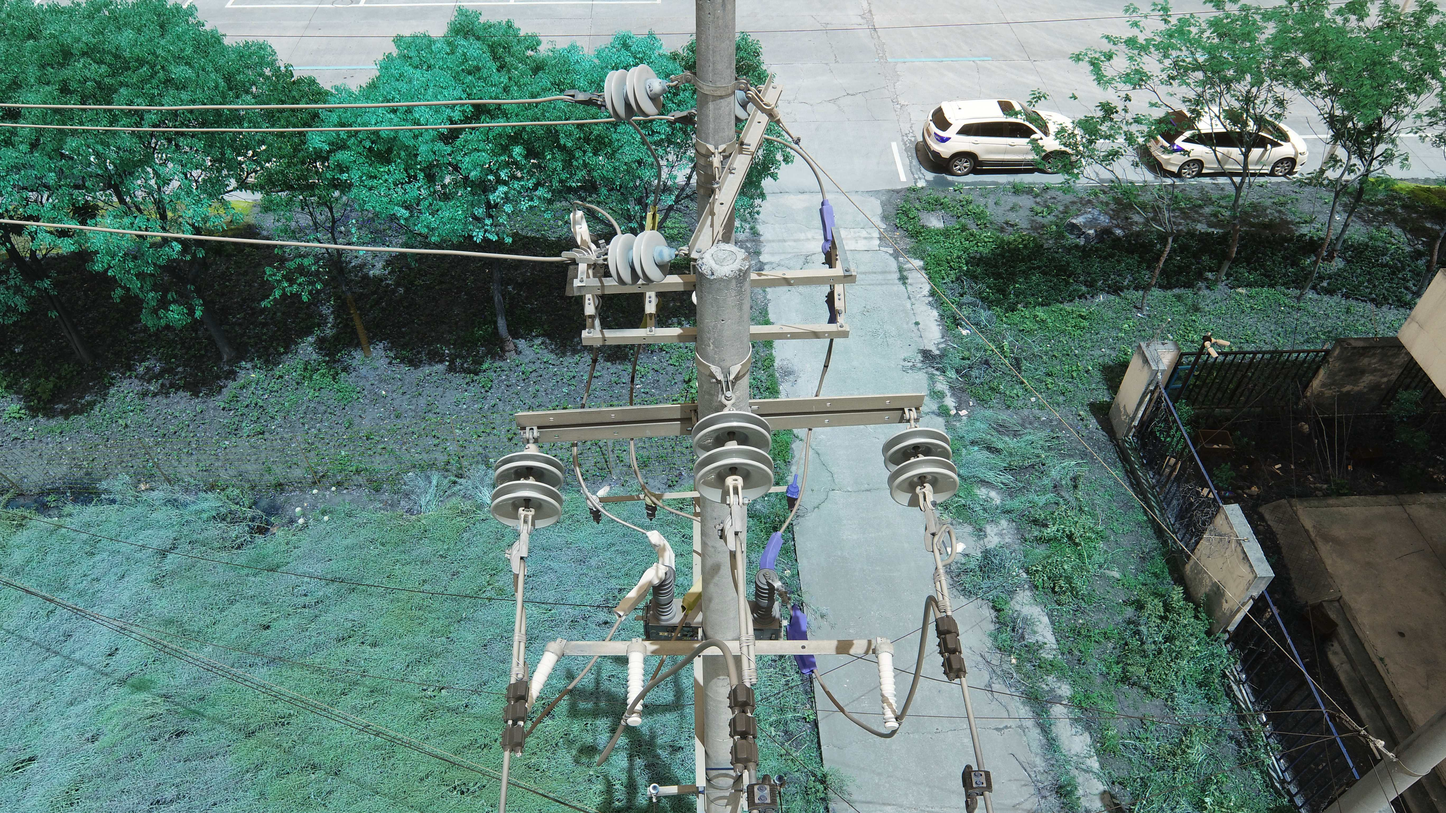severe_soiling_no_discharge_whole: (770, 772, 787, 788)
